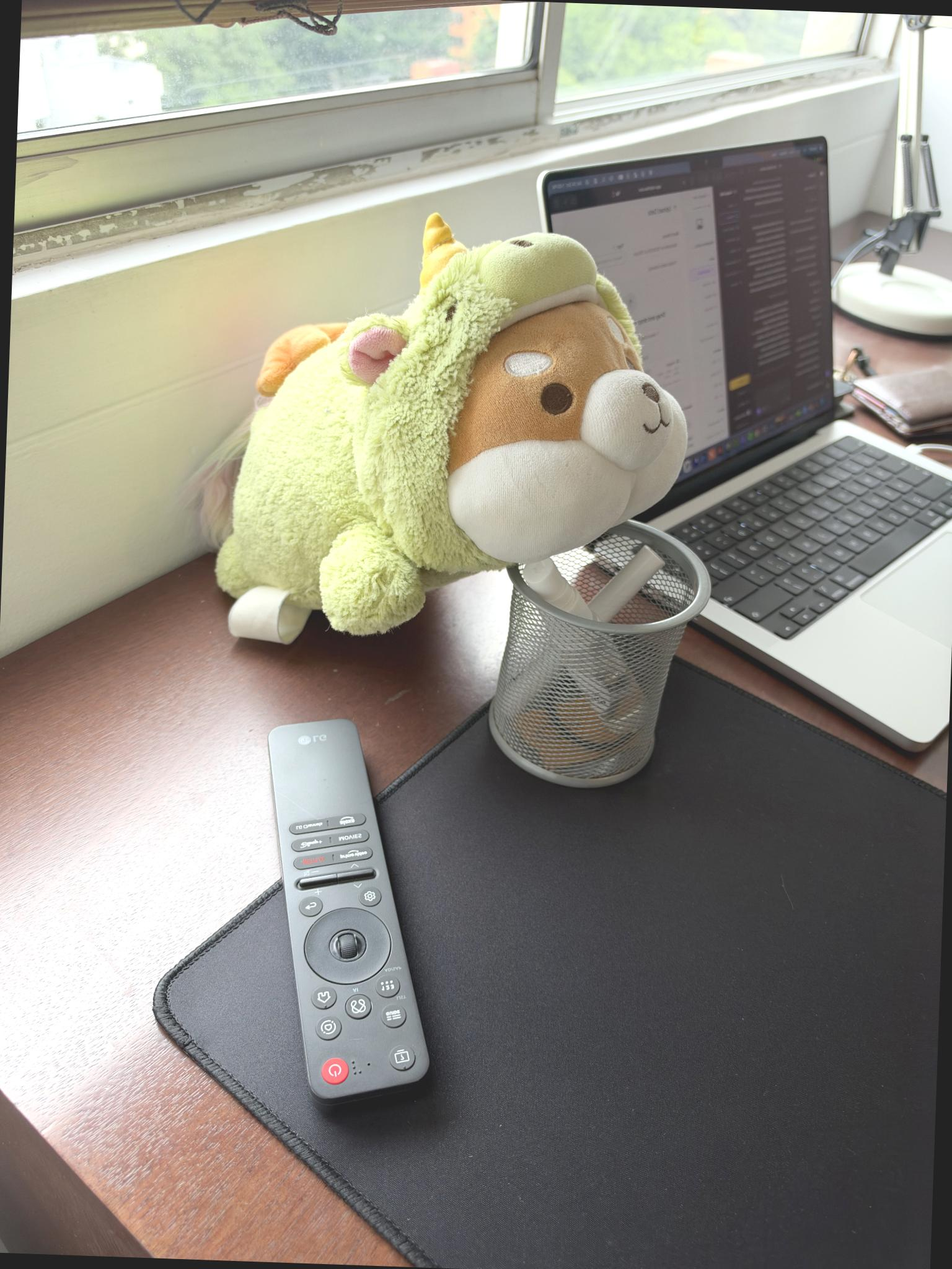peluche_martin: (168, 202, 697, 648)
